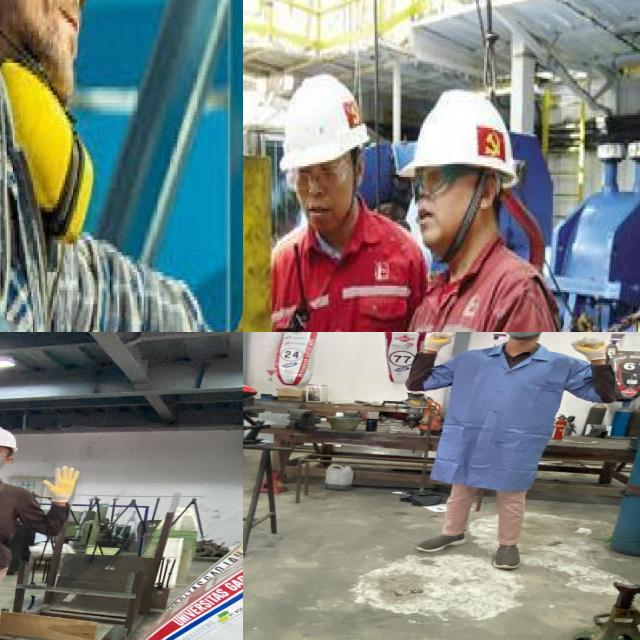face_nomask: (12, 0, 86, 102), (406, 166, 464, 238), (289, 162, 344, 223)
glasses: (283, 165, 350, 194), (408, 163, 452, 197), (0, 446, 11, 459)
hand_glove: (41, 464, 87, 498), (567, 335, 615, 359), (414, 332, 460, 352)
head_helmet: (395, 79, 523, 186), (270, 74, 374, 173), (0, 423, 20, 449)
person: (398, 332, 626, 575), (368, 81, 574, 332), (259, 70, 433, 332), (0, 424, 85, 640)
shoes: (407, 528, 471, 556), (486, 540, 530, 570)
